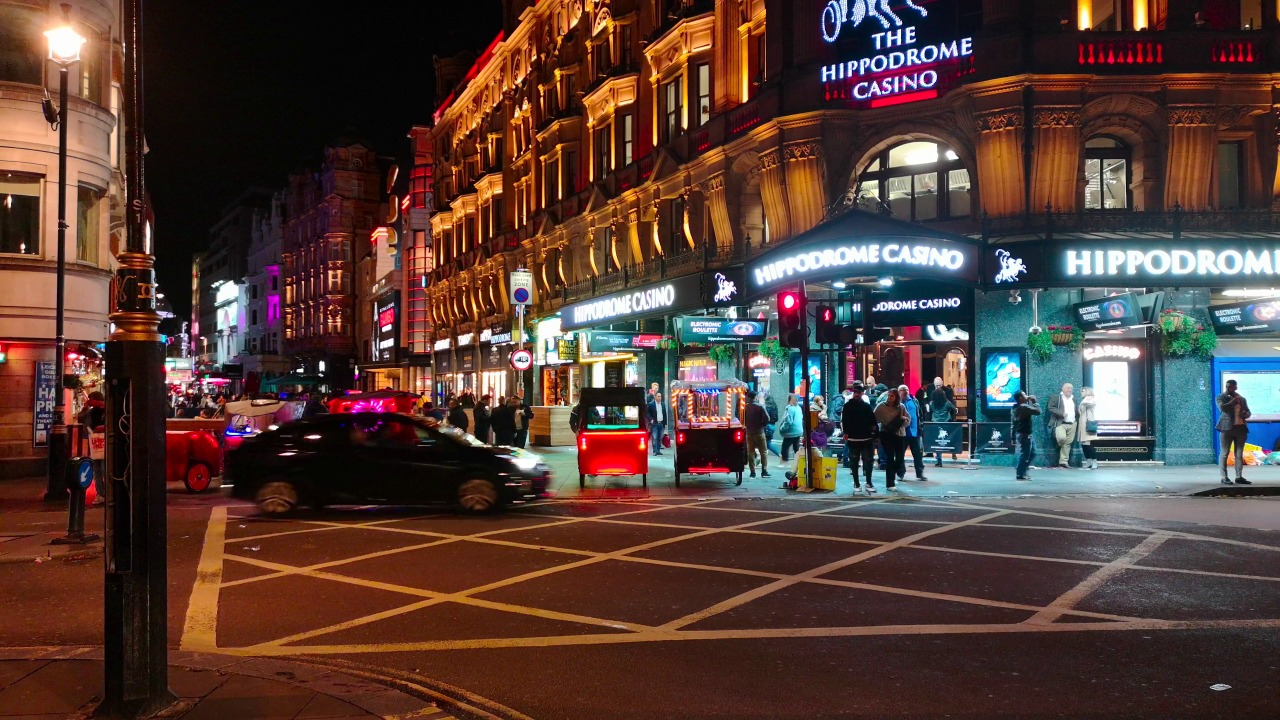car: (220, 406, 559, 523), (667, 378, 757, 494), (567, 386, 655, 494), (164, 425, 232, 499), (319, 388, 415, 422), (218, 394, 301, 431)
person: (1212, 378, 1253, 480), (872, 386, 910, 494), (844, 377, 878, 497), (564, 389, 600, 488), (79, 391, 108, 504), (897, 384, 928, 483), (1010, 388, 1038, 483), (1076, 385, 1105, 469), (928, 387, 957, 470), (744, 395, 771, 481), (784, 435, 820, 491), (506, 394, 534, 449), (780, 389, 799, 463), (762, 388, 780, 458), (494, 397, 517, 444), (478, 394, 498, 448), (810, 392, 834, 436), (648, 392, 661, 459), (930, 375, 952, 404), (830, 385, 846, 423), (450, 398, 468, 429), (458, 384, 474, 411), (422, 401, 439, 421), (868, 374, 878, 393), (650, 379, 658, 398)
